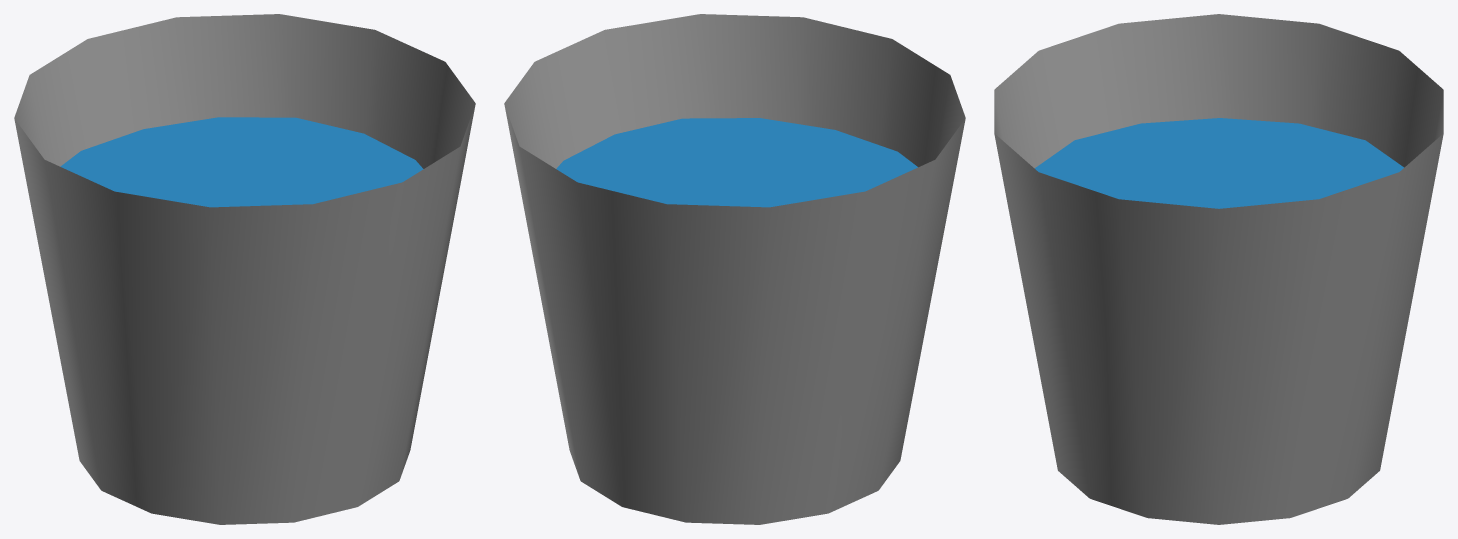
The model's file is Barn@Water.fbx.
3 views of the same model, side by side, from view 1: azimuth 30°, elevation 25°; view 2: azimuth 150°, elevation 25°; view 3: azimuth 270°, elevation 25° (orthographic).
Parts seen in each view (by area): view 1: Cylinder, Plane; view 2: Cylinder, Plane; view 3: Cylinder, Plane.
Part boxes in pixels (box(x1,y1,x2,y2)): Cylinder: box(14, 14, 475, 524); Plane: box(60, 117, 423, 207); Cylinder: box(504, 14, 965, 524); Plane: box(556, 118, 917, 207); Cylinder: box(994, 14, 1443, 524); Plane: box(1035, 118, 1404, 208).
Size of the model in its own units: 58.95 by 48.48 by 57.47.
